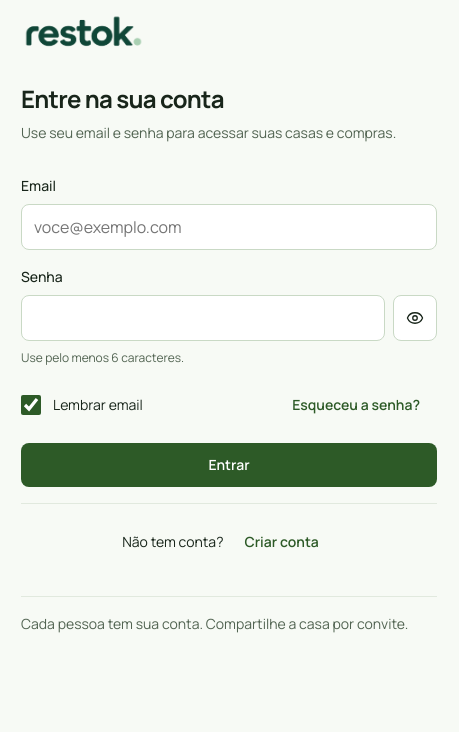
Test: login form › reports a network failure and unlocks the form
In the field with id "email": (229, 227) [21,204,437,250], type "casa@example.com"
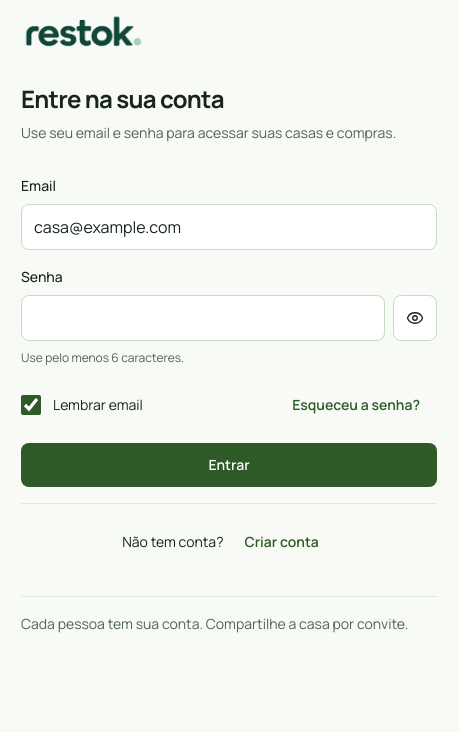
In the password field labelled "Senha": (203, 318) [21,295,385,341], type "segredo"
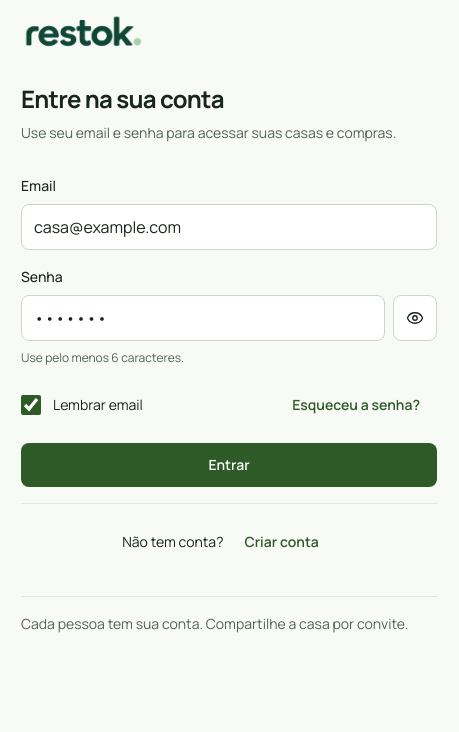
Click the button "Entrar": (229, 465) [21,443,437,487]
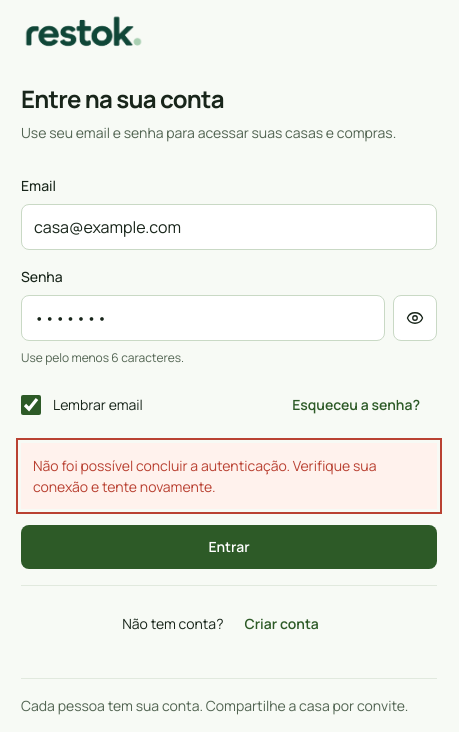
Expected: the button "Entrar" is enabled, [21,525,437,569]
Result: the message shows "Não foi possível concluir a autenticação. Verifique sua conexão e tente novamente." at [33,456,376,496]
